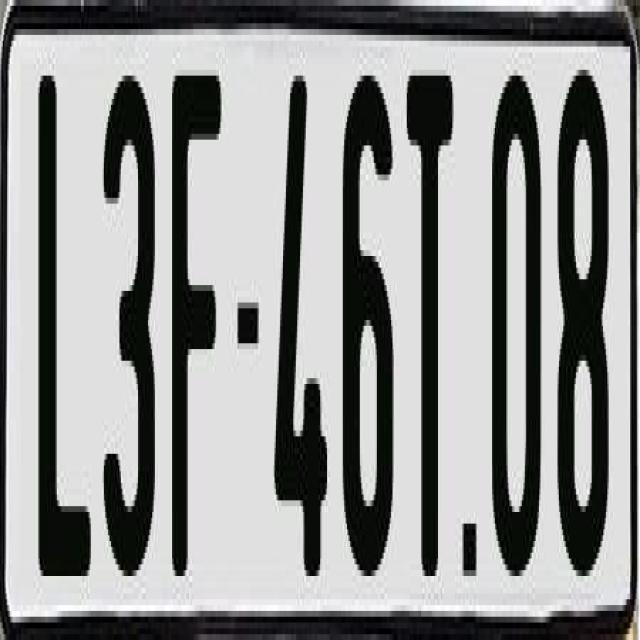0: (490, 58, 544, 588)
3: (100, 58, 152, 588)
4: (270, 58, 324, 582)
6: (341, 75, 397, 588)
8: (555, 70, 606, 588)
F: (172, 58, 226, 564)
L: (34, 70, 90, 606)
T: (406, 63, 452, 600)
